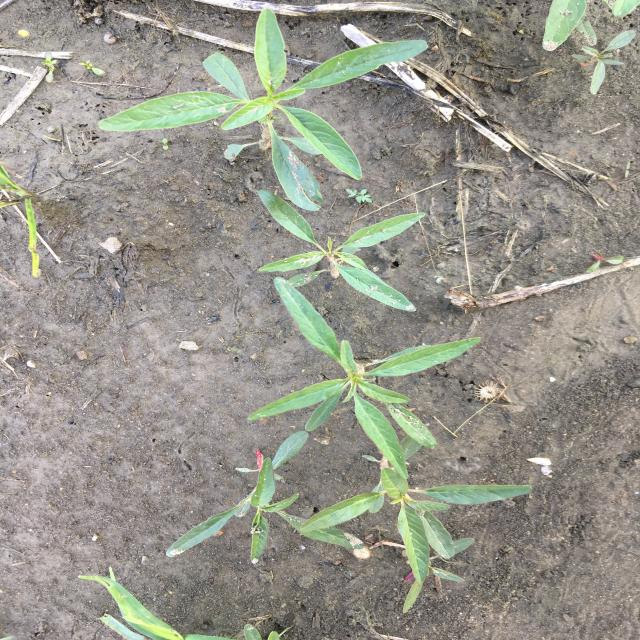Ragweed: (344, 187, 374, 205)
Waterhemp: (96, 8, 431, 212), (244, 276, 483, 480), (298, 432, 535, 584), (164, 429, 367, 565), (255, 188, 430, 314), (536, 0, 636, 97)
